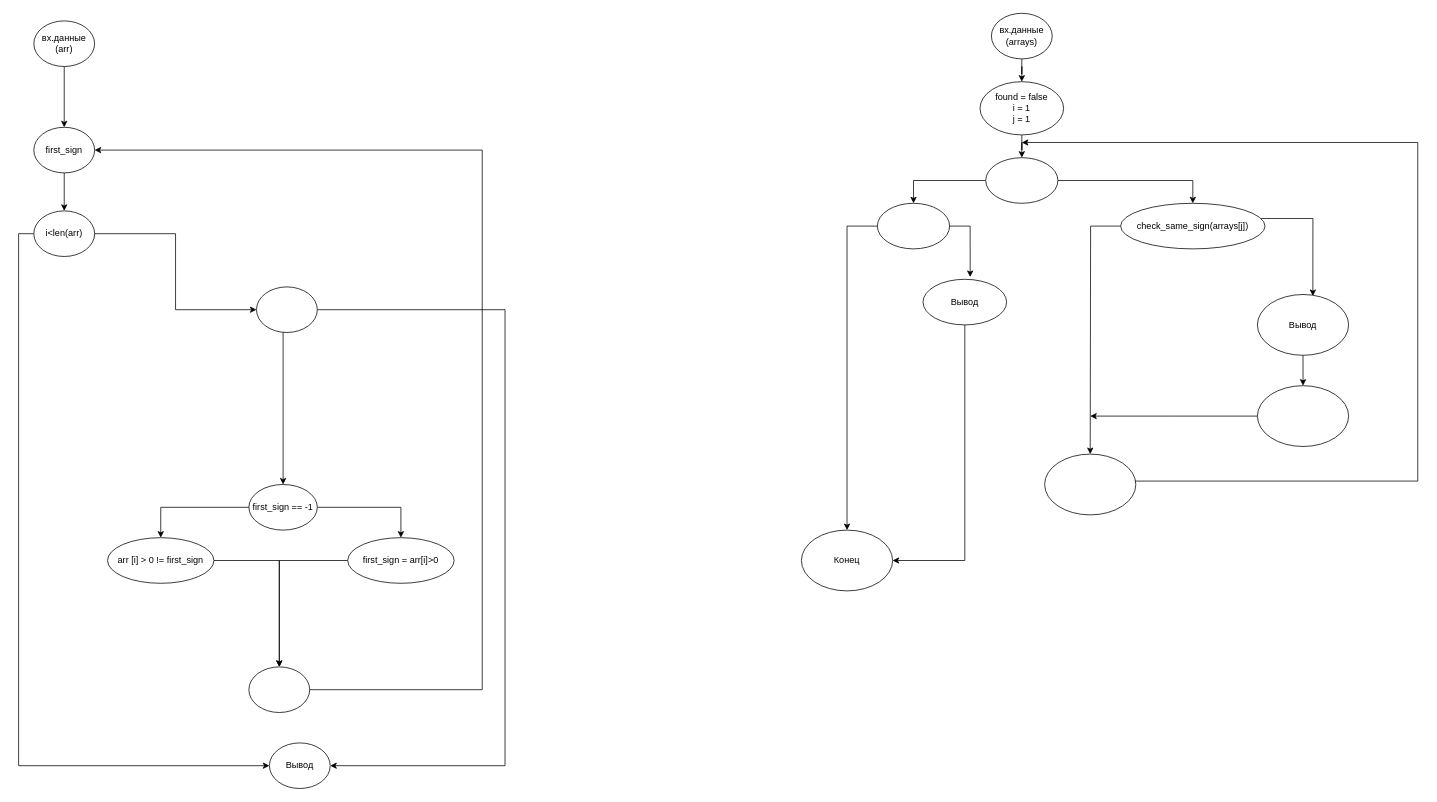
Image size: 1437x802. Some labels were removed from this diagram. The box of each missing label's shape, as (x1, y1, x2, y2) in pixels:
arr[i] == 0: (256, 286, 317, 332)
found = true: (1257, 385, 1349, 446)
found == 0: (877, 203, 950, 249)
i += 1: (1044, 453, 1136, 515)
i +=1: (248, 666, 310, 712)
j<len(arrays): (985, 157, 1058, 203)
